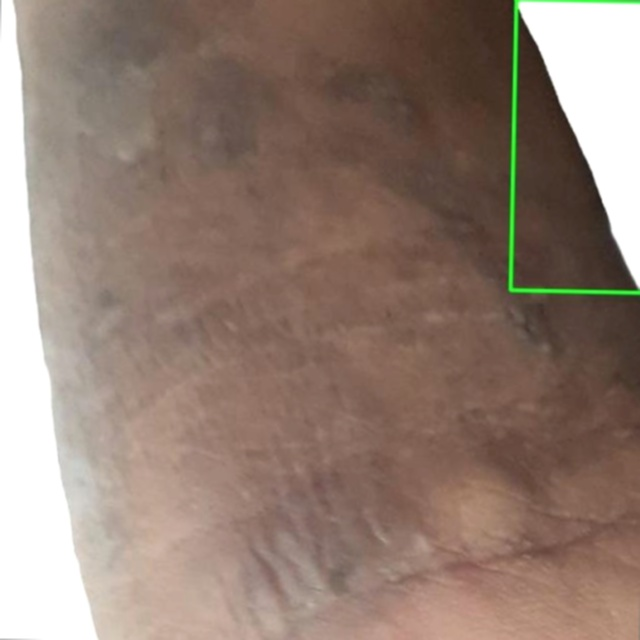Contact Dermatitis: (510, 0, 639, 292)
